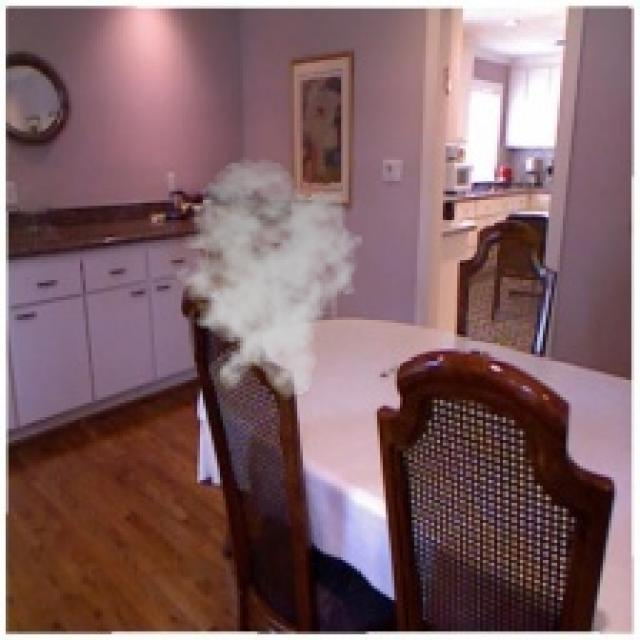smoke: (163, 157, 368, 400)
